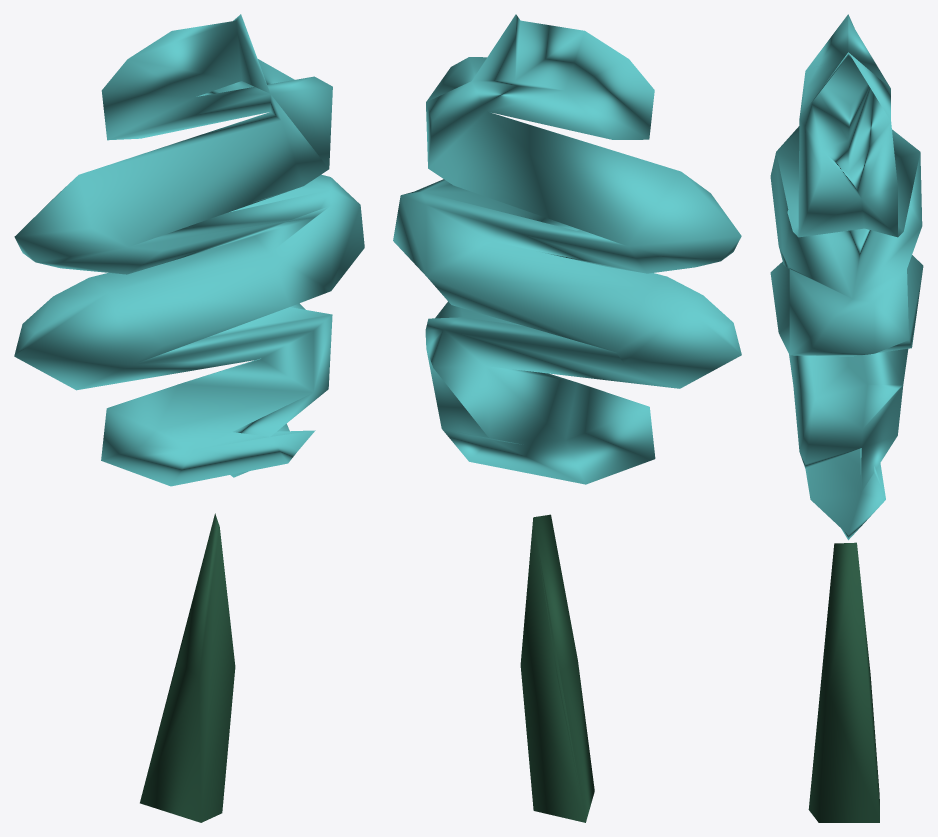
File: usk_Tree_Floating_lod.glb
3 renders of one model, left to right at view 1: azimuth 30°, elevation 25°; view 2: azimuth 150°, elevation 25°; view 3: azimuth 270°, elevation 25°, orthographic.
Parts seen in each view (by area): view 1: Tree_Floating_1; view 2: Tree_Floating_1; view 3: Tree_Floating_1.
Boxes of the visible parts, <box> form: Tree_Floating_1: <box>14,14,364,822</box>; Tree_Floating_1: <box>393,14,741,822</box>; Tree_Floating_1: <box>770,14,923,822</box>.
Size of the model in its own units: 2.07 by 4.58 by 0.8059.
1 material, 1 textured.
